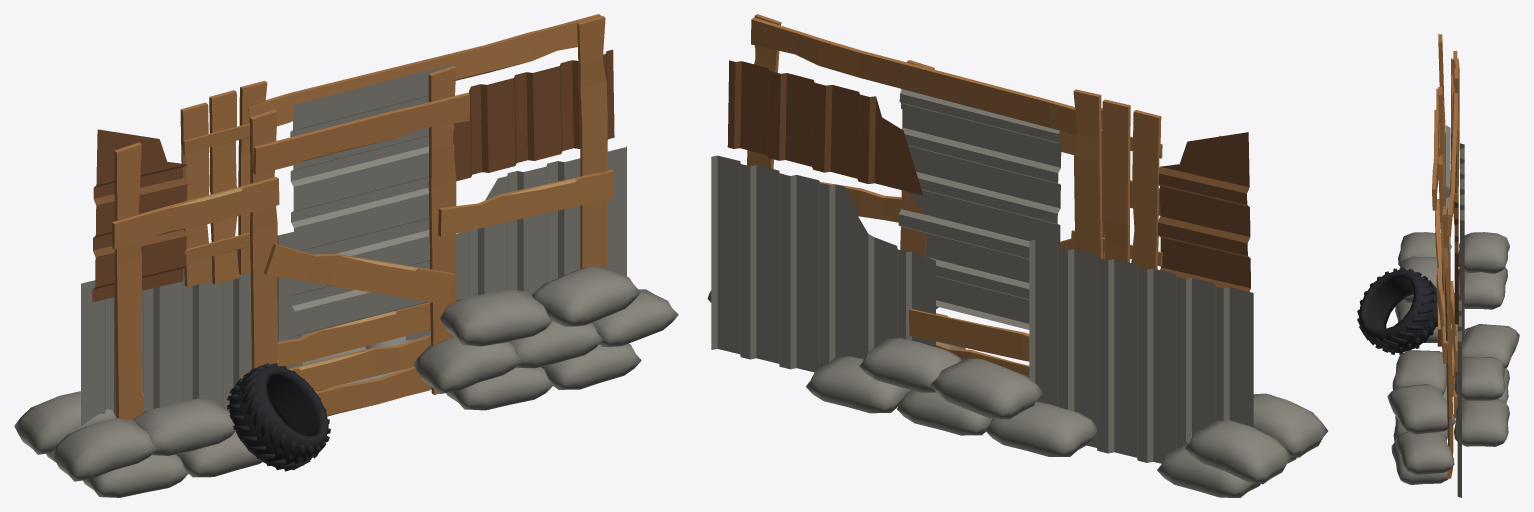
File: cc0-barrier-trash-lod0.glb
The picture shows the model from 3 angles, left to right: view 1: azimuth 30°, elevation 25°; view 2: azimuth 150°, elevation 25°; view 3: azimuth 270°, elevation 25°; orthographic projection. The views are drawn at different scales.
Visible parts, largest first — view 1: part_0; view 2: part_0; view 3: part_0.
Part boxes in pixels (x1,y1,x2,y2): part_0: (14,14,678,497); part_0: (707,14,1327,497); part_0: (1357,34,1519,497).
Bounding box in the file's own units: 4.49 × 2.51 × 1.31.
